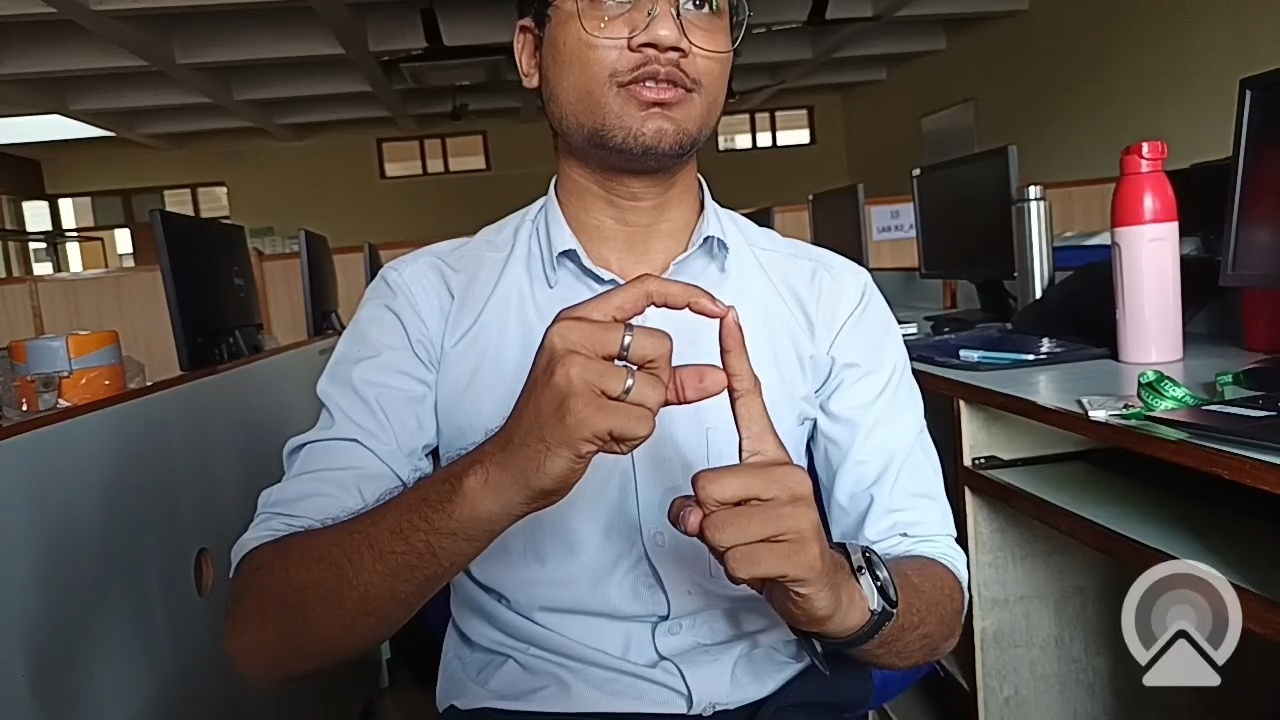P: (509, 243, 854, 634)
